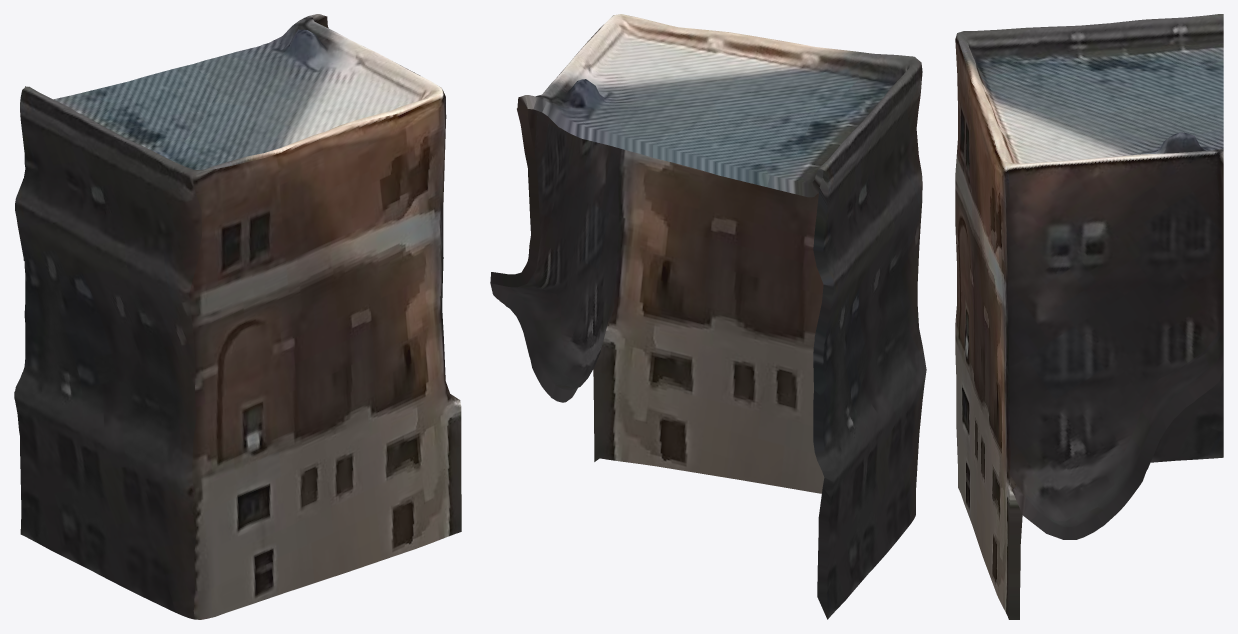
File: z20-167774-405235-h1-yup-uvflip-v3-world.glb
3 views of the same model, side by side, from view 1: azimuth 30°, elevation 25°; view 2: azimuth 150°, elevation 25°; view 3: azimuth 270°, elevation 25° (orthographic).
Bounding box in the file's own units: 17.24 × 22.04 × 11.8.
1 material, 1 textured.
